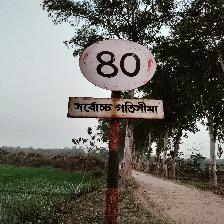Speed-limit: (69, 38, 162, 121)
